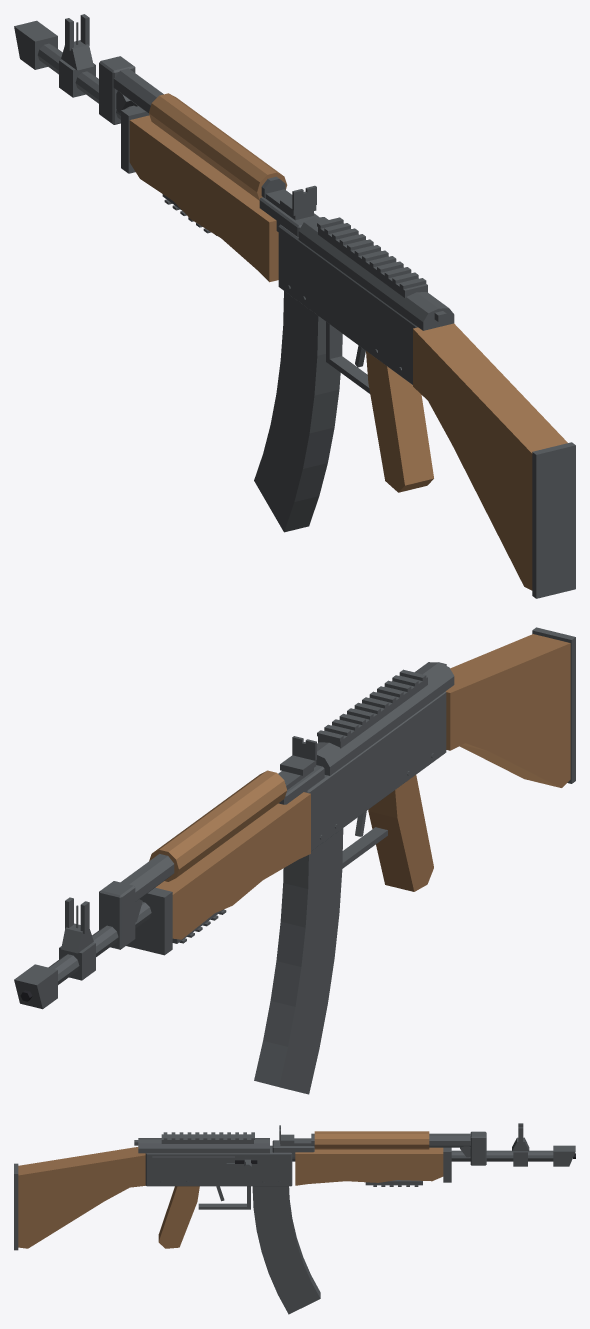
3 views of the same model, one above another, from view 1: azimuth 30°, elevation 25°; view 2: azimuth 150°, elevation 25°; view 3: azimuth 270°, elevation 25° (orthographic). The views are drawn at different scales.
Visible parts, largest first — view 1: body, magazine, muzzleDevice; view 2: body, magazine, muzzleDevice; view 3: body, magazine, selector, muzzleDevice.
Part boxes in pixels (left/top/right/bottom): body: left=37, top=14, right=575, bottom=598; magazine: left=254, top=291, right=342, bottom=532; muzzleDevice: left=14, top=20, right=57, bottom=69; body: left=48, top=627, right=575, bottom=984; magazine: left=254, top=828, right=343, bottom=1094; muzzleDevice: left=14, top=964, right=57, bottom=1009; body: left=14, top=1123, right=553, bottom=1250; magazine: left=252, top=1186, right=320, bottom=1314; selector: left=152, top=1156, right=234, bottom=1170; muzzleDevice: left=553, top=1145, right=575, bottom=1166.
Size of the model in its own units: 0.059 by 0.3214 by 0.8825.
